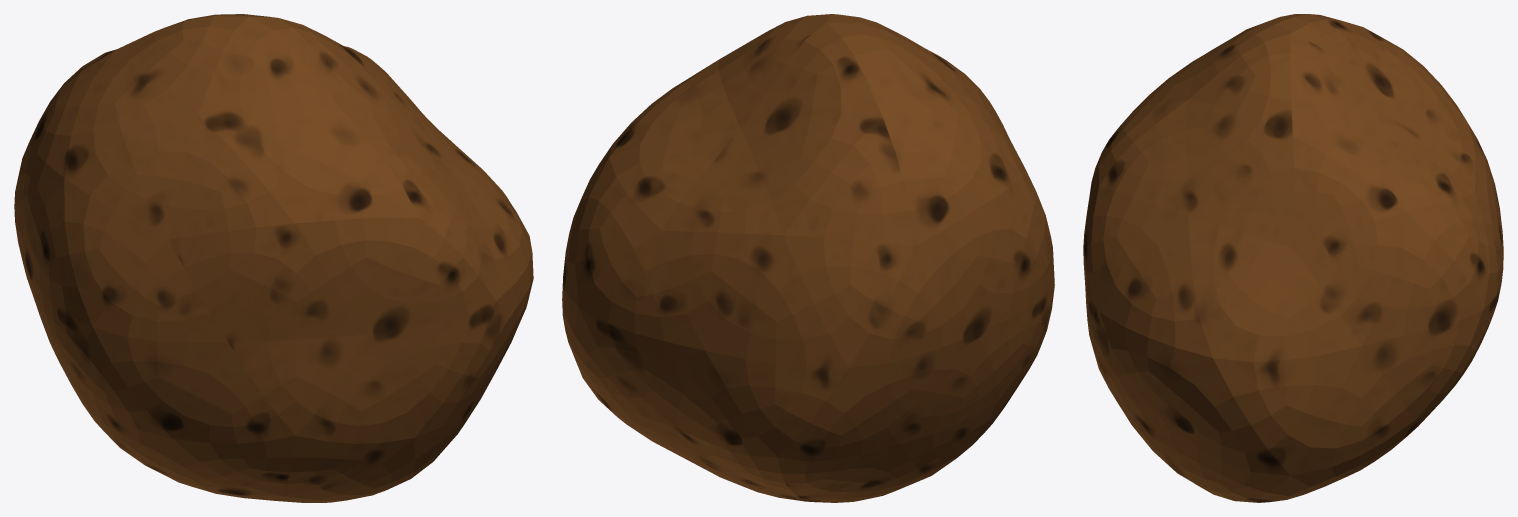
Rendered from Commet3.obj.
3 renders of one model, left to right at view 1: azimuth 30°, elevation 25°; view 2: azimuth 150°, elevation 25°; view 3: azimuth 270°, elevation 25°, orthographic. The views are drawn at different scales.
Parts seen in each view (by area): view 1: ICO球.002; view 2: ICO球.002; view 3: ICO球.002.
Part boxes in pixels (<box>): ICO球.002: <box>14,14,533,502</box>; ICO球.002: <box>562,14,1054,502</box>; ICO球.002: <box>1083,14,1503,502</box>.
Bounding box in the file's own units: 7.04 × 7.1 × 6.35.
1 material, 1 textured.
